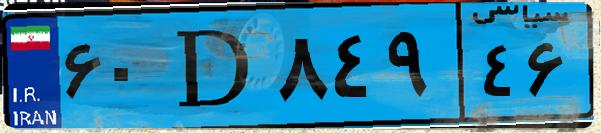0: (110, 28, 158, 98)
4: (330, 28, 385, 110), (475, 38, 525, 113)
6: (57, 26, 110, 100), (525, 38, 570, 115)
8: (270, 28, 330, 110)
9: (385, 28, 445, 110)
D: (158, 12, 270, 120)
